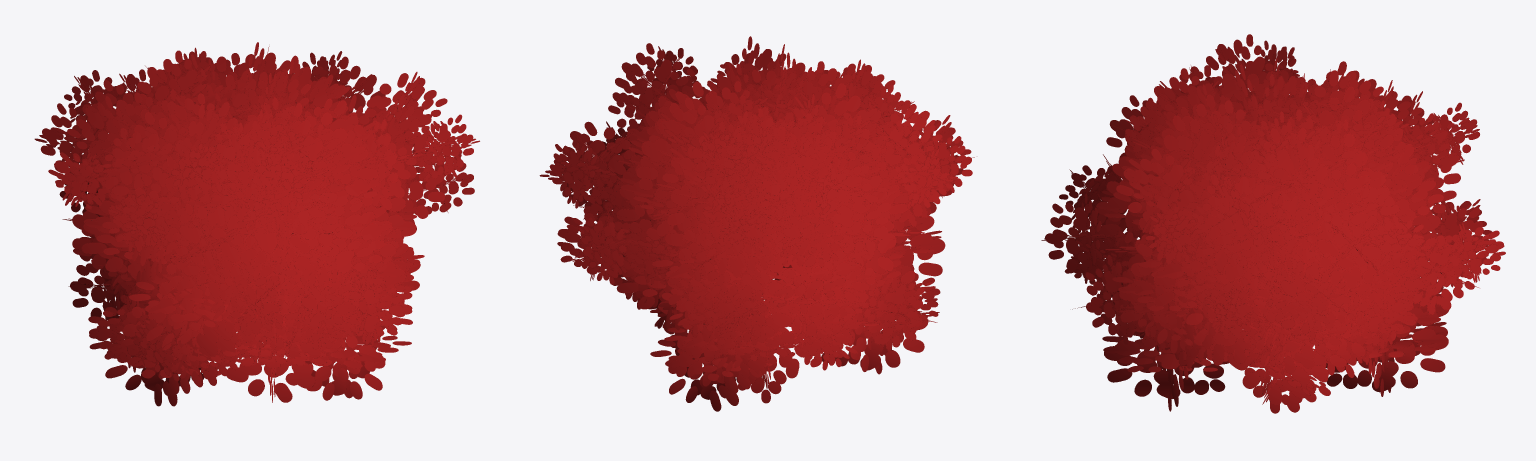
Rendered from Bush_Common.glb.
3 views of the same model, side by side, from view 1: azimuth 30°, elevation 25°; view 2: azimuth 150°, elevation 25°; view 3: azimuth 270°, elevation 25° (orthographic). The views are drawn at different scales.
Visible parts, largest first — view 1: Bush_Common; view 2: Bush_Common; view 3: Bush_Common.
Boxes of the visible parts, bbox=[...] form: Bush_Common: bbox=[34, 42, 479, 406]; Bush_Common: bbox=[539, 36, 974, 411]; Bush_Common: bbox=[1041, 34, 1505, 413].
Bounding box in the file's own units: 1.91 × 1.58 × 1.97.
1 material, 1 textured.
